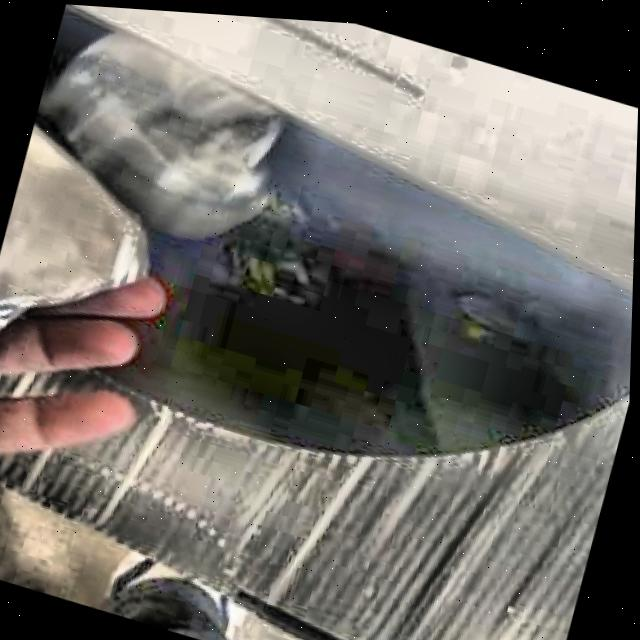metal: (0, 125, 146, 330)
